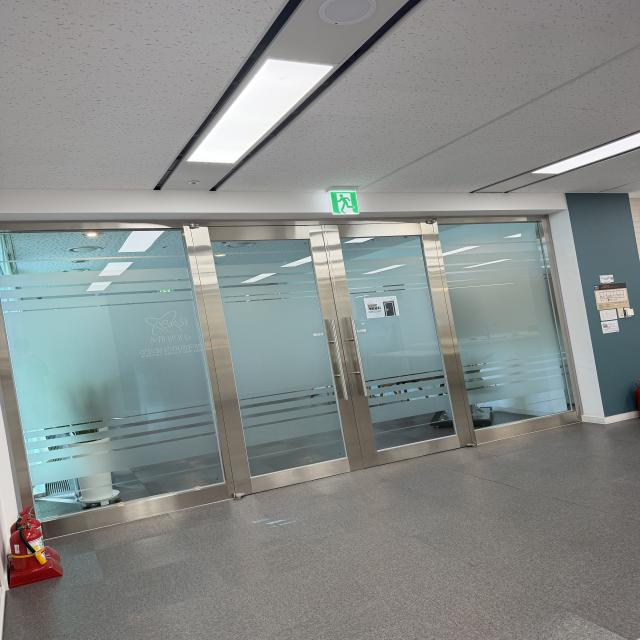front_door: (2, 219, 588, 545)
